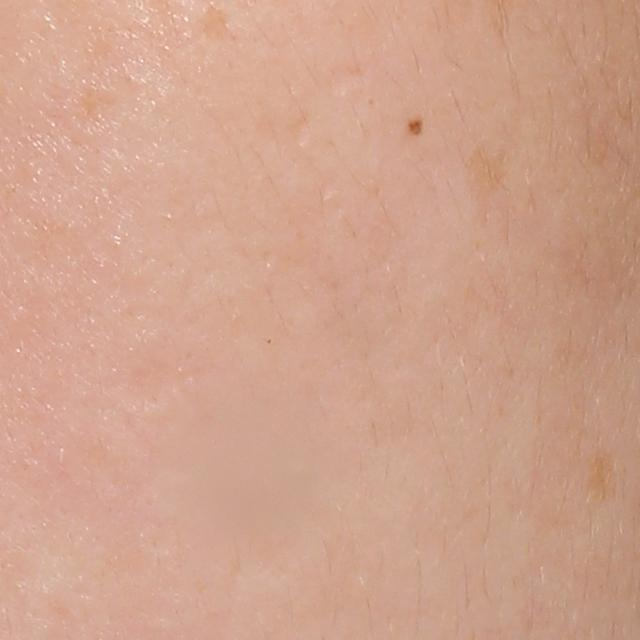nevus: (409, 118, 424, 137)
